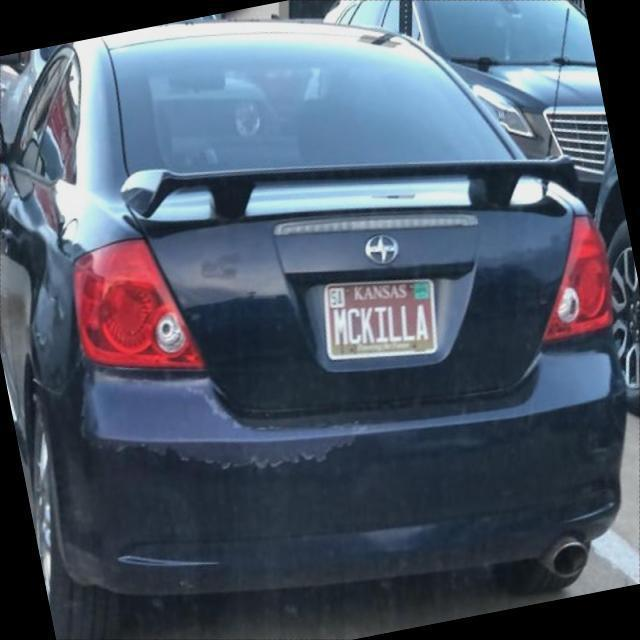license-plate: (313, 271, 464, 375)
